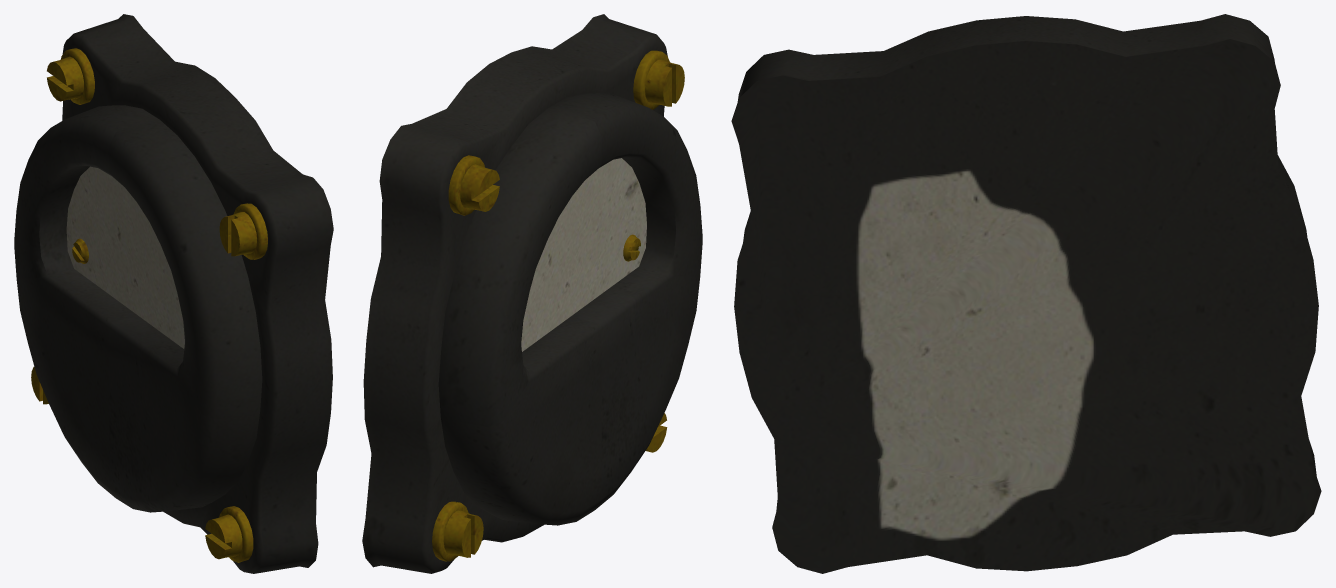
File: ping medidor.fbx
3 renders of one model, left to right at view 1: azimuth 30°, elevation 25°; view 2: azimuth 150°, elevation 25°; view 3: azimuth 270°, elevation 25°, orthographic. The views are drawn at different scales.
Visible parts, largest first — view 1: TIMING; view 2: TIMING; view 3: TIMING.
Part boxes in pixels (<box>): TIMING: <box>14,14,333,573</box>; TIMING: <box>362,14,702,573</box>; TIMING: <box>731,14,1321,573</box>.
Bounding box in the file's own units: 7.13 × 27.3 × 27.31.
